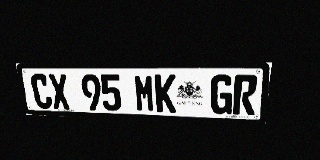5: (100, 74, 122, 111)
9: (80, 74, 103, 111)
C: (30, 74, 53, 109)
G: (210, 75, 234, 114)
K: (155, 74, 176, 113)
M: (134, 74, 155, 112)
R: (232, 75, 258, 115)
X: (48, 74, 71, 110)
